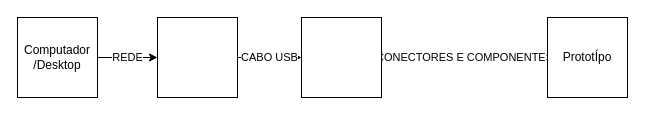
Image size: 645x115. Some labels were removed from this diagram. The centre of each missing label's shape, as x and y in pixels:
Arduino: the point at 341,57
Biblioteca Fimata - Protocolo de Comunicação: the point at 197,57
